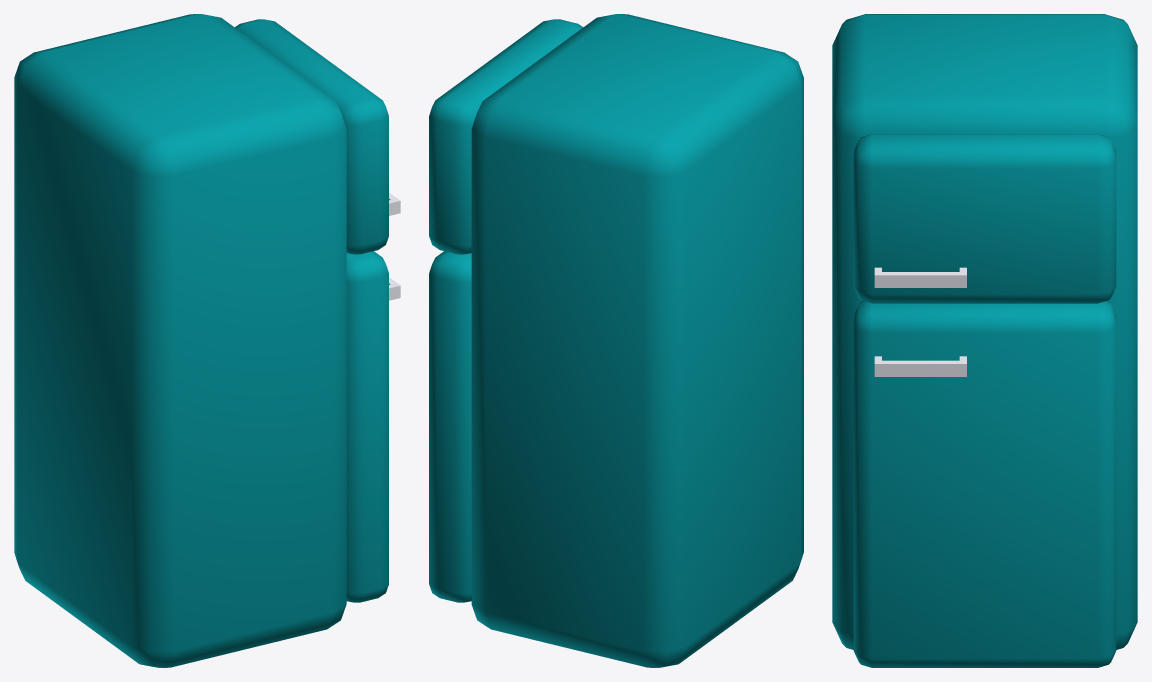
File: Fridge.fbx
3 views of the same model, side by side, from view 1: azimuth 30°, elevation 25°; view 2: azimuth 150°, elevation 25°; view 3: azimuth 270°, elevation 25° (orthographic). The views are drawn at different scales.
Parts seen in each view (by area): view 1: Fridge; view 2: Fridge; view 3: Fridge.
Part boxes in pixels (x1,y1,x2,y2): Fridge: (14, 14, 400, 667); Fridge: (429, 14, 803, 667); Fridge: (832, 14, 1137, 667).
Bounding box in the file's own units: 179 × 333 × 165.
